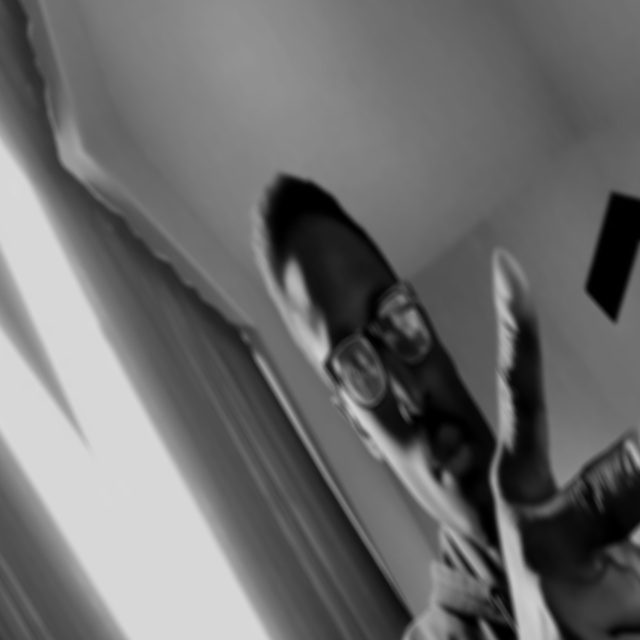Scissors: (0, 596, 126, 640)
